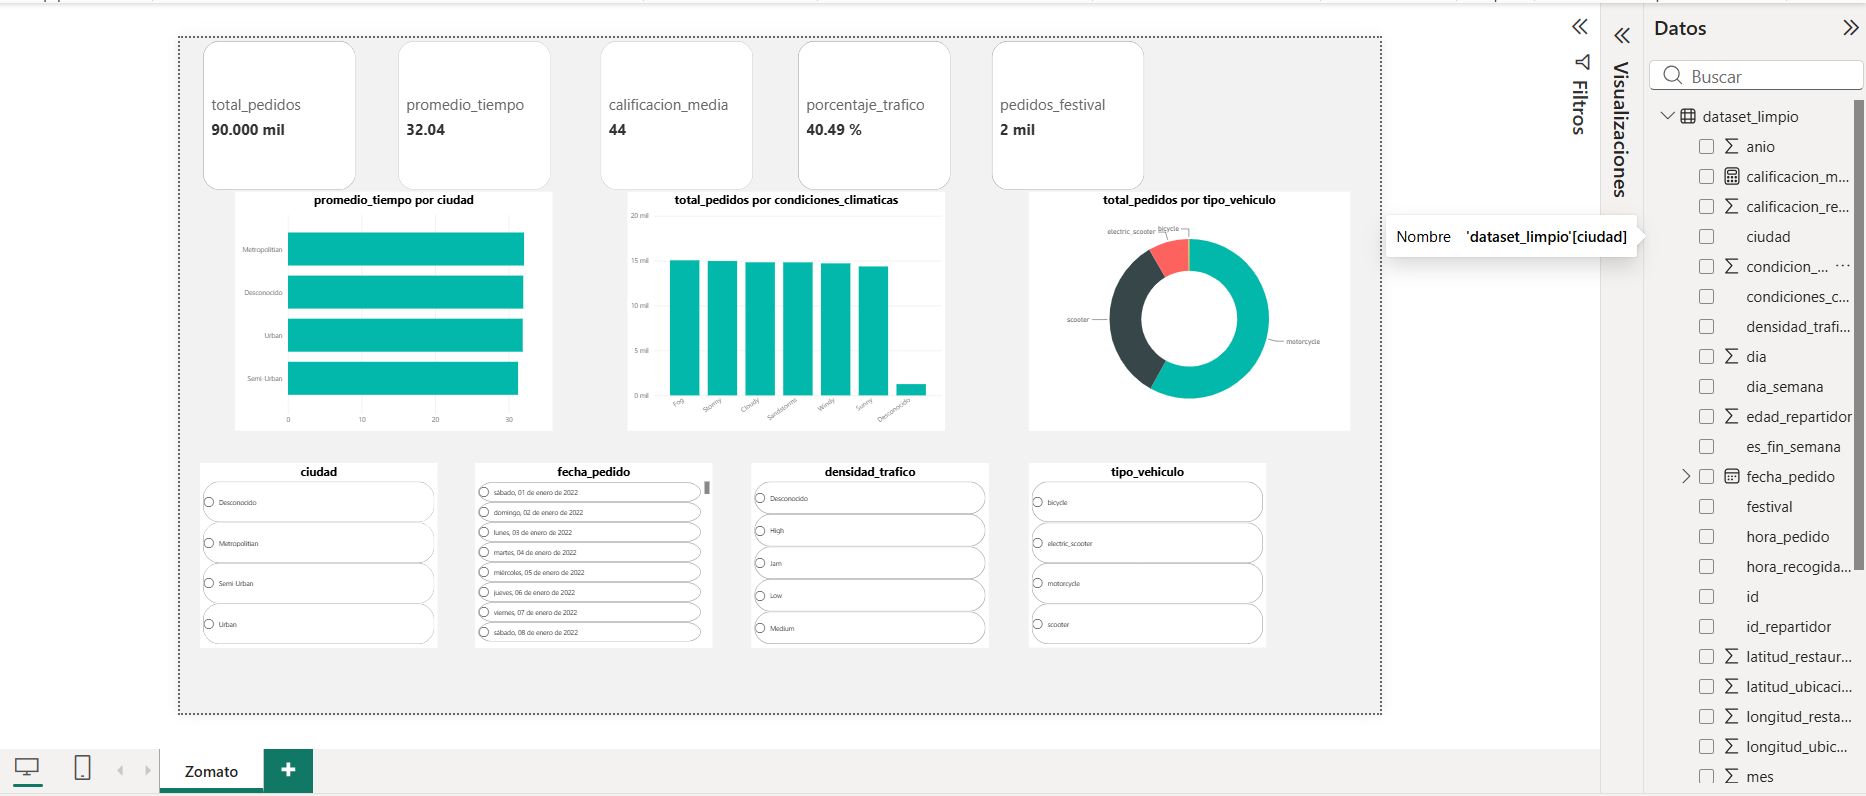

Layout of this report page (visuals, bound fields, positions):
{"tool":"powerbi","page":{"name":"Zomato","canvas":[1920,1080],"ordinal":0},"visuals":[{"type":"cardVisual","fields":{"Data":["dataset_limpio.promedio_tiempo"]},"box":[344,0,254,248],"z":0},{"type":"cardVisual","fields":{"Data":["dataset_limpio.calificacion_media"]},"box":[668,0,254,248],"z":1000},{"type":"cardVisual","fields":{"Data":["dataset_limpio.porcentaje_trafico"]},"box":[984,0,254,248],"z":2000},{"type":"cardVisual","fields":{"Data":["dataset_limpio.pedidos_festival"]},"box":[1294,0,254,248],"z":3000},{"type":"clusteredBarChart","fields":{"Category":["dataset_limpio.ciudad"],"Y":["dataset_limpio.promedio_tiempo"]},"box":[88.3,246.7,508,382],"z":4000},{"type":"clusteredColumnChart","fields":{"Category":["dataset_limpio.condiciones_climaticas"],"Y":["dataset_limpio.total_pedidos"]},"box":[716.7,246.7,508,382],"z":5000},{"type":"donutChart","fields":{"Category":["dataset_limpio.tipo_vehiculo"],"Y":["dataset_limpio.total_pedidos"]},"box":[1358.3,246.7,514,382],"z":6000},{"type":"listSlicer","fields":{"Values":["dataset_limpio.fecha_pedido"]},"box":[472,680,380,296],"z":7000},{"type":"listSlicer","fields":{"Values":["dataset_limpio.ciudad"]},"box":[32,680,380,296],"z":8000},{"type":"listSlicer","fields":{"Values":["dataset_limpio.densidad_trafico"]},"box":[914,680,380,296],"z":9000},{"type":"listSlicer","fields":{"Values":["dataset_limpio.tipo_vehiculo"]},"box":[1358,680,380,295],"z":10000},{"type":"cardVisual","fields":{"Data":["dataset_limpio.total_pedidos"]},"box":[32,0,254,248],"z":11000}]}

Visuals, with their boxes in screenshot pixels (x1, y1, x2, y2):
cardVisual - dataset_limpio.promedio_tiempo: region(518, 24, 697, 198)
cardVisual - dataset_limpio.calificacion_media: region(746, 24, 924, 198)
cardVisual - dataset_limpio.porcentaje_trafico: region(968, 24, 1146, 198)
cardVisual - dataset_limpio.pedidos_festival: region(1185, 24, 1364, 198)
clusteredBarChart - dataset_limpio.ciudad x dataset_limpio.promedio_tiempo: region(339, 197, 696, 466)
clusteredColumnChart - dataset_limpio.condiciones_climaticas x dataset_limpio.total_pedidos: region(780, 197, 1137, 466)
donutChart - dataset_limpio.tipo_vehiculo x dataset_limpio.total_pedidos: region(1230, 197, 1591, 466)
listSlicer - dataset_limpio.fecha_pedido: region(608, 502, 875, 709)
listSlicer - dataset_limpio.ciudad: region(299, 502, 566, 709)
listSlicer - dataset_limpio.densidad_trafico: region(919, 502, 1185, 709)
listSlicer - dataset_limpio.tipo_vehiculo: region(1230, 502, 1497, 709)
cardVisual - dataset_limpio.total_pedidos: region(299, 24, 478, 198)
